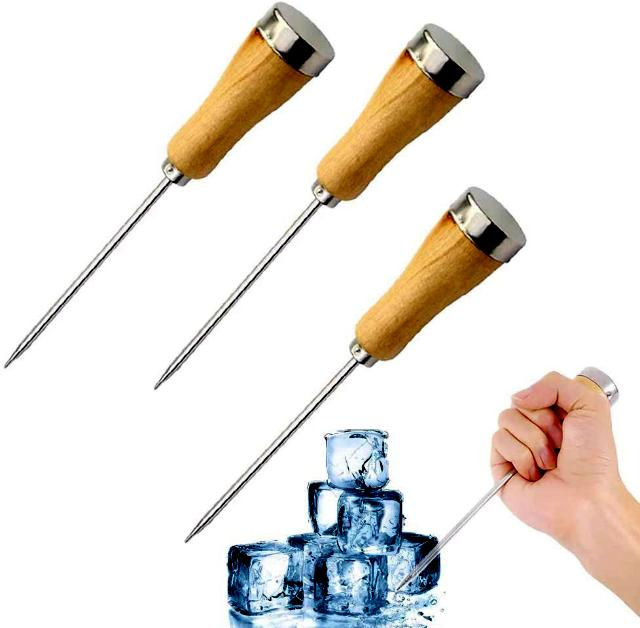ice pick: (186, 187, 526, 543), (5, 5, 337, 368), (157, 24, 486, 390), (392, 366, 618, 594)
